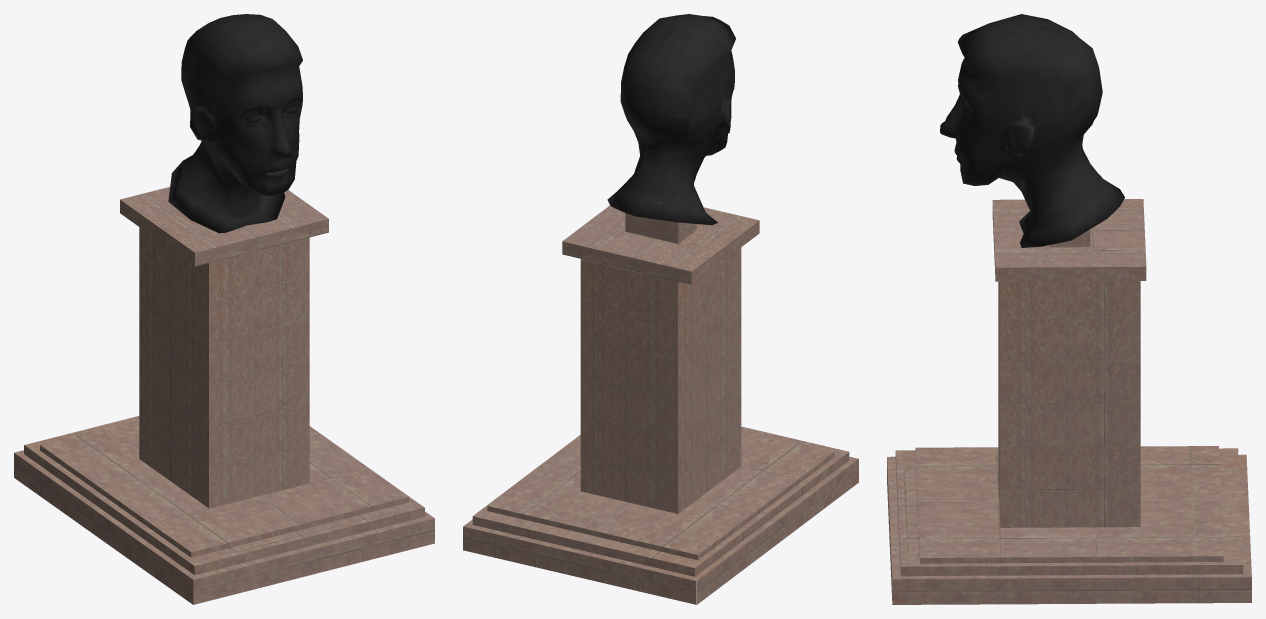
Rendered from Bust.fbx.
3 renders of one model, left to right at view 1: azimuth 30°, elevation 25°; view 2: azimuth 150°, elevation 25°; view 3: azimuth 270°, elevation 25°, orthographic. The views are drawn at different scales.
Visible parts, largest first — view 1: Man Sculpt Head 01.lxl (2); view 2: Man Sculpt Head 01.lxl (2); view 3: Man Sculpt Head 01.lxl (2).
Part boxes in pixels (x1,y1,x2,y2): Man Sculpt Head 01.lxl (2): [14, 14, 434, 604]; Man Sculpt Head 01.lxl (2): [463, 14, 858, 604]; Man Sculpt Head 01.lxl (2): [887, 14, 1251, 604].
Bounding box in the file's own units: 407 × 792 × 504.
